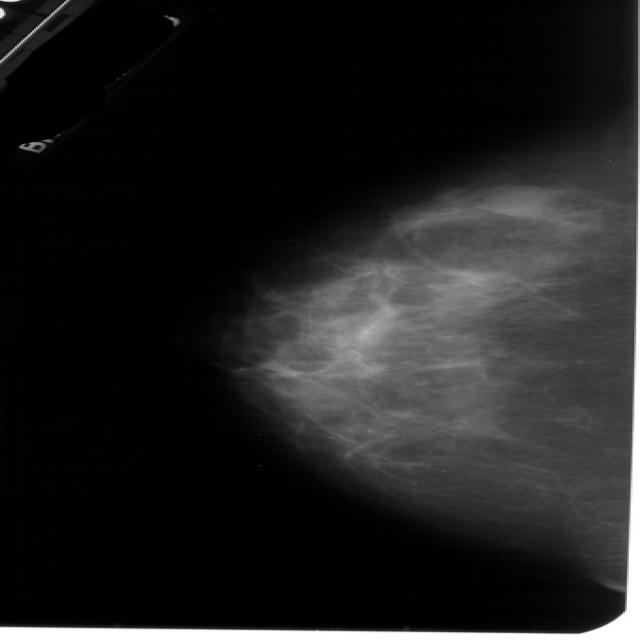tumour: (478, 185, 551, 215)
